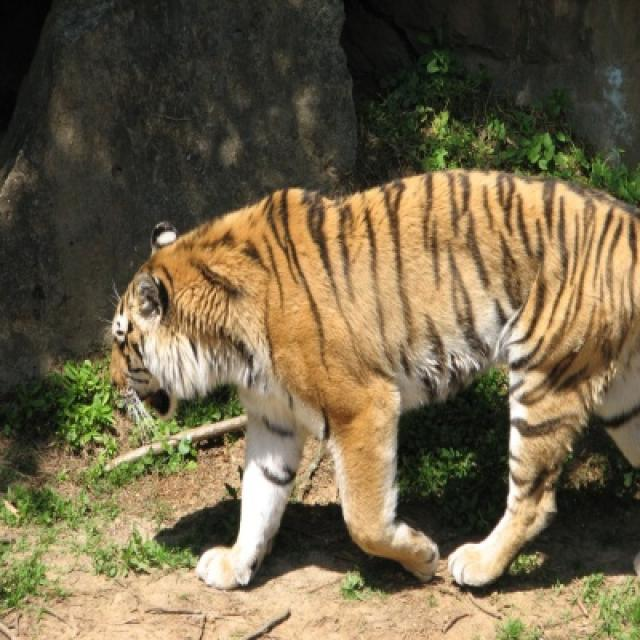Tiger: (104, 176, 638, 584)
